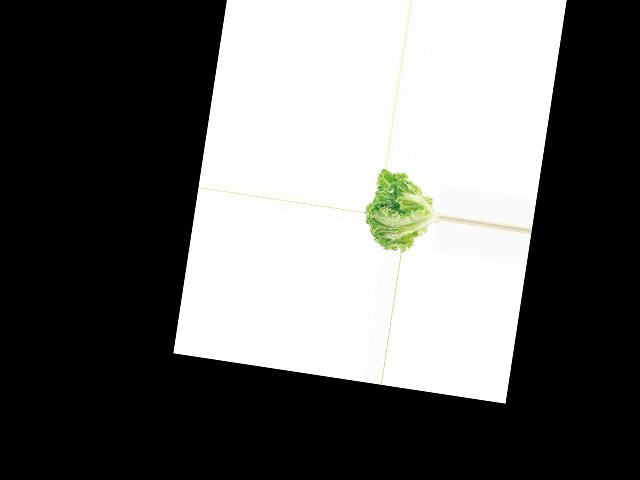lettuce: (360, 167, 446, 257)
